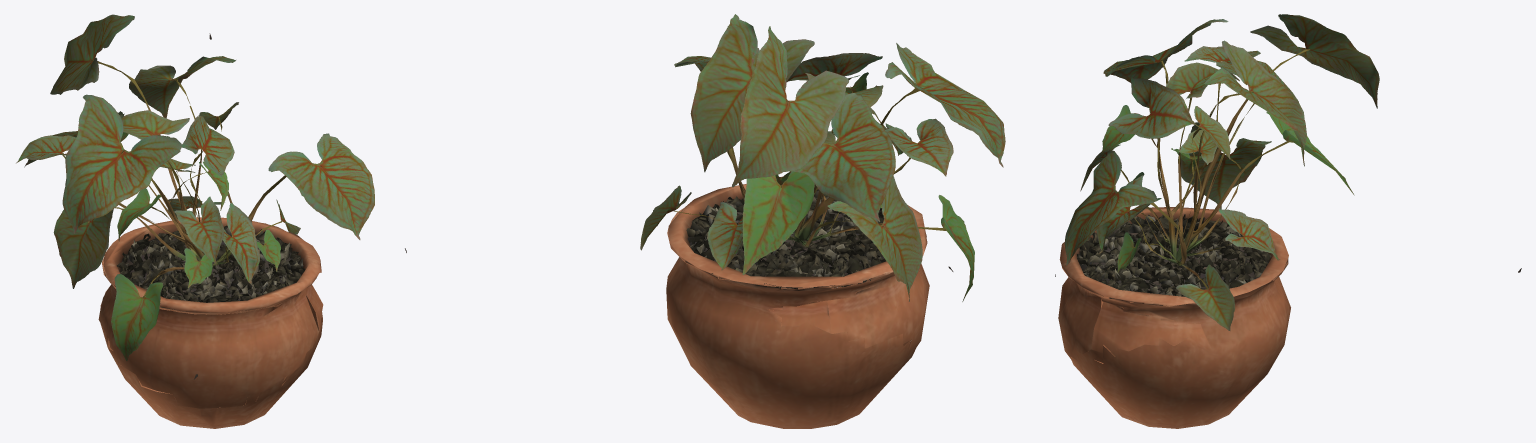
The model's file is Plant.fbx.
3 renders of one model, left to right at view 1: azimuth 30°, elevation 25°; view 2: azimuth 150°, elevation 25°; view 3: azimuth 270°, elevation 25°, orthographic. The views are drawn at different scales.
Visible parts, largest first — view 1: leaves, pot, dirt; view 2: leaves, pot, dirt; view 3: leaves, pot, dirt.
Part boxes in pixels (<box>): leaves: <box>16,14,374,360</box>; pot: <box>98,217,323,428</box>; dirt: <box>116,225,305,309</box>; leaves: <box>640,14,1005,301</box>; pot: <box>666,176,929,428</box>; dirt: <box>686,189,885,289</box>; leaves: <box>1064,14,1379,330</box>; pot: <box>1058,207,1290,428</box>; dirt: <box>1077,214,1271,305</box>.
Size of the model in its own units: 0.8015 by 0.842 by 0.9901.
3 materials, 3 textured.
